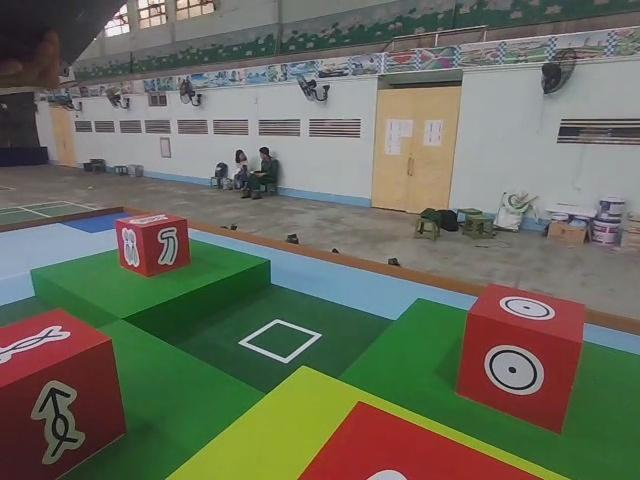R2 Fake: (115, 209, 193, 279)
R2 Real: (2, 307, 126, 479), (457, 286, 586, 435)
